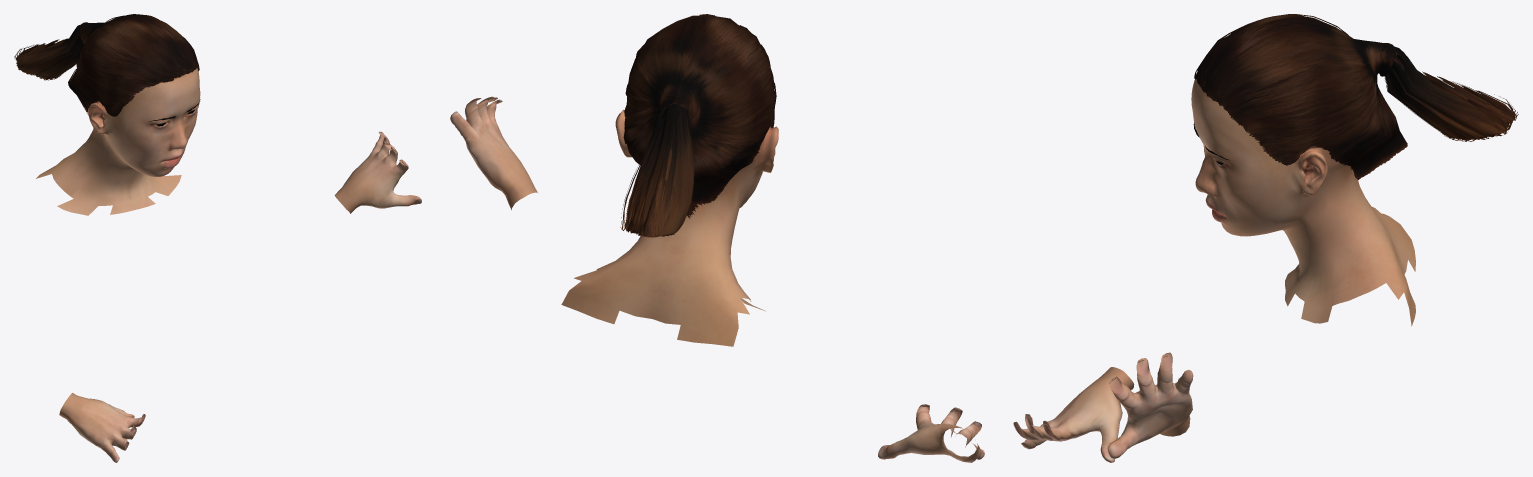
The model's file is musician.glb.
The picture shows the model from 3 angles, left to right: view 1: azimuth 30°, elevation 25°; view 2: azimuth 150°, elevation 25°; view 3: azimuth 270°, elevation 25°; orthographic projection. The views are drawn at different scales.
Visible parts, largest first — view 1: Seated musician; view 2: Seated musician; view 3: Seated musician.
Boxes of the visible parts, bbox=[...] form: Seated musician: bbox=[14, 14, 421, 462]; Seated musician: bbox=[450, 14, 984, 462]; Seated musician: bbox=[1013, 14, 1518, 462].
Size of the model in its own units: 0.6584 by 0.6116 by 0.5505.
Materials: 4 (4 with a texture image).
